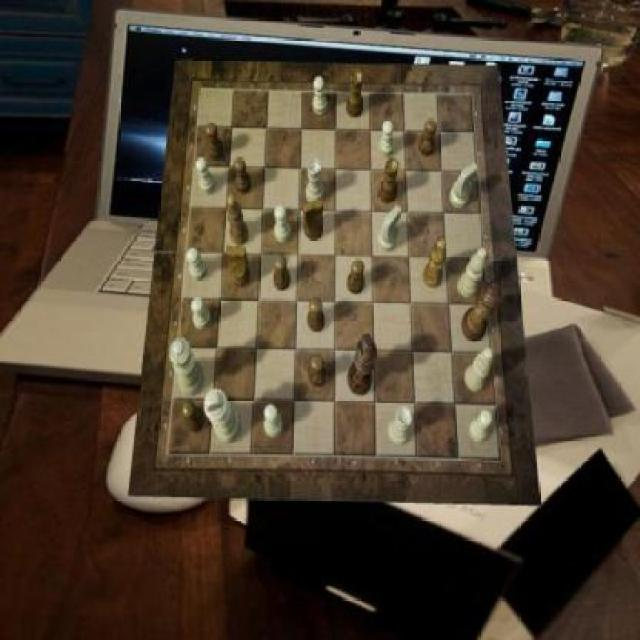bishop: (423, 238, 447, 290), (226, 194, 249, 246)
black-bishop: (348, 334, 378, 396)
black-king: (226, 245, 251, 287), (303, 200, 323, 242)
black-knight: (181, 400, 204, 434), (418, 118, 438, 157), (204, 123, 223, 161), (234, 157, 251, 195), (274, 256, 291, 292), (308, 298, 325, 332), (348, 259, 365, 293), (308, 357, 325, 389)
black-pawn: (462, 280, 502, 342)
black-queen: (380, 157, 400, 203), (346, 71, 363, 118)
black-rook: (457, 248, 487, 298), (466, 348, 494, 392)
white-bishop: (205, 388, 242, 444)
white-king: (451, 163, 478, 209), (378, 206, 402, 252)
white-knight: (197, 157, 217, 195), (470, 409, 492, 443), (264, 404, 284, 438), (191, 297, 211, 331), (188, 248, 208, 282), (378, 120, 394, 158), (276, 205, 292, 242), (314, 77, 329, 115)
white-pawn: (169, 337, 205, 395)
white-queen: (389, 406, 414, 446), (306, 158, 326, 204)
